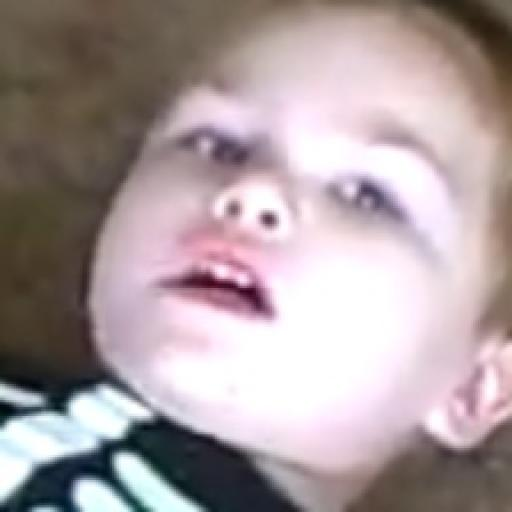Autism: (106, 117, 512, 495)
